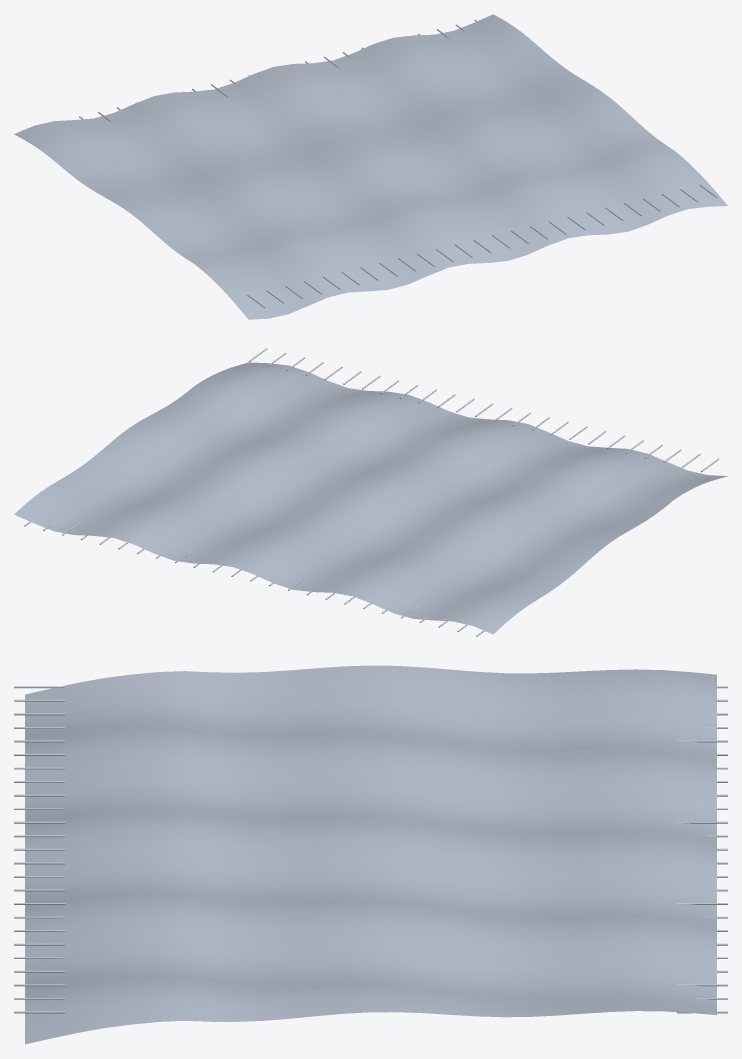
File: 沙发毯-lite.glb
3 renders of one model, top to bottom at view 1: azimuth 30°, elevation 25°; view 2: azimuth 150°, elevation 25°; view 3: azimuth 270°, elevation 25°, orthographic. The views are drawn at different scales.
Parts seen in each view (by area): view 1: soft, light; view 2: soft, light; view 3: soft, light.
Part boxes in pixels (bbox=[...]): soft: bbox=[14, 14, 727, 319]; light: bbox=[23, 20, 717, 308]; soft: bbox=[14, 362, 727, 634]; light: bbox=[24, 348, 719, 636]; soft: bbox=[25, 665, 716, 1044]; light: bbox=[14, 686, 727, 1013].
Bounding box in the file's own units: 1.12 × 0.0548 × 0.98.
